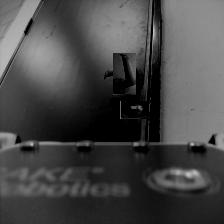Door Handle: (108, 57, 140, 91)
Lock: (123, 99, 145, 122)
